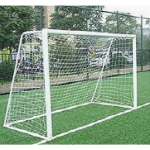goals: (3, 28, 138, 140)
